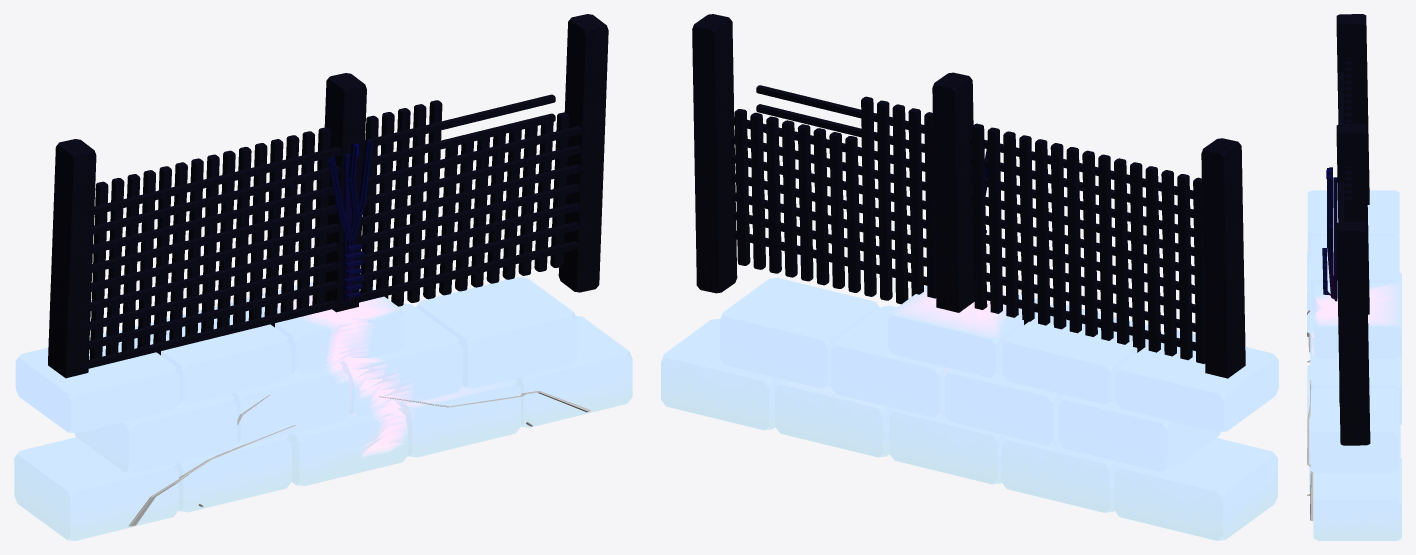
The model's file is cataclysm_fen_wall_struck-lod1.gltf.
3 views of the same model, side by side, from view 1: azimuth 30°, elevation 25°; view 2: azimuth 150°, elevation 25°; view 3: azimuth 270°, elevation 25° (orthographic). The views are drawn at different scales.
Visible parts, largest first — view 1: cataclysm_fen_wall_struck LOD1 cataclysm_fen_wall_struck, cataclysm_fen_wall_struck LOD1 cataclysm_fen_wall roots atta; view 2: cataclysm_fen_wall_struck LOD1 cataclysm_fen_wall_struck; view 3: cataclysm_fen_wall_struck LOD1 cataclysm_fen_wall_struck, cataclysm_fen_wall_struck LOD1 cataclysm_fen_wall roots atta.
Part boxes in pixels (x1,y1,x2,y2): cataclysm_fen_wall_struck LOD1 cataclysm_fen_wall_struck: (14, 14, 632, 540); cataclysm_fen_wall_struck LOD1 cataclysm_fen_wall roots atta: (129, 390, 590, 526); cataclysm_fen_wall_struck LOD1 cataclysm_fen_wall_struck: (661, 14, 1278, 540); cataclysm_fen_wall_struck LOD1 cataclysm_fen_wall_struck: (1307, 14, 1401, 540); cataclysm_fen_wall_struck LOD1 cataclysm_fen_wall roots atta: (1307, 310, 1313, 520).
Size of the model in its own units: 2.73 by 1.71 by 0.4792.
